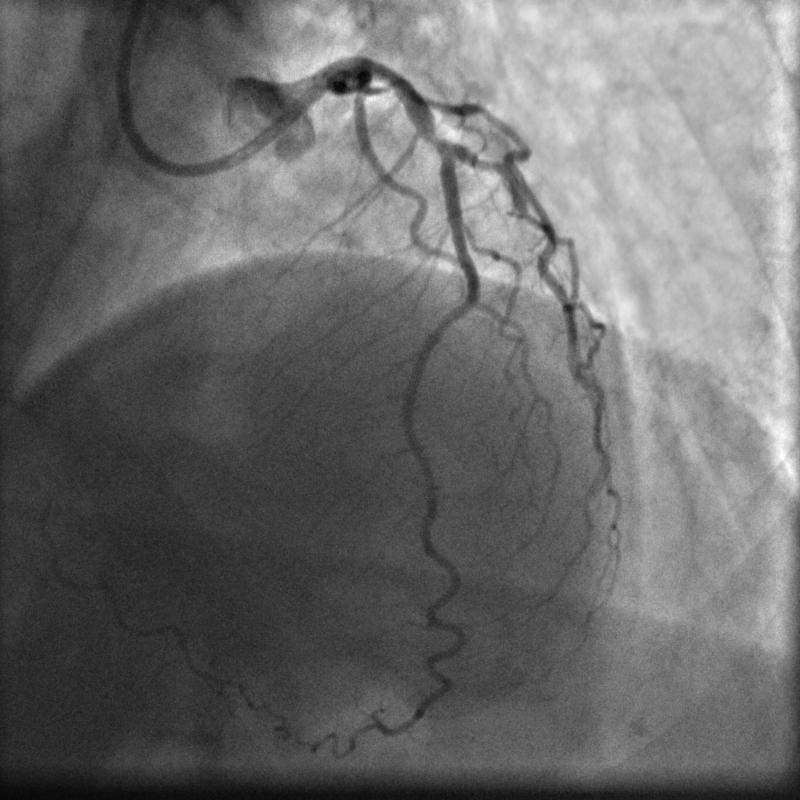Stenosis: (415, 126, 458, 153)
